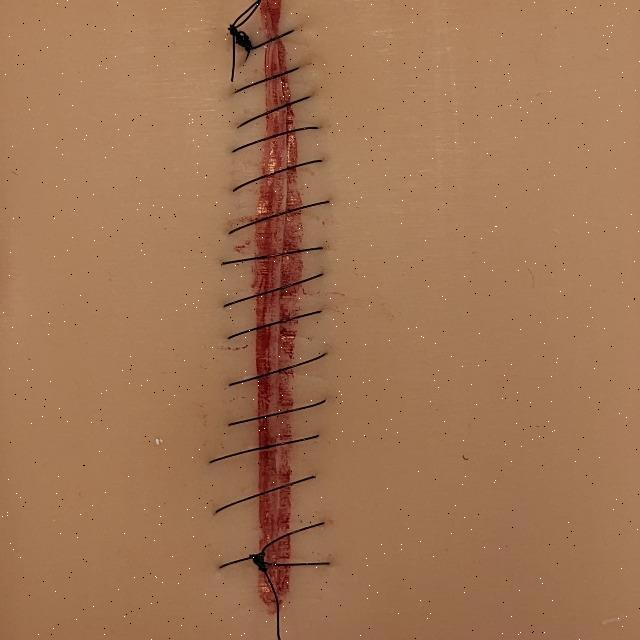suture_good: (220, 266, 336, 314), (225, 390, 335, 435), (225, 195, 338, 238), (231, 153, 333, 199), (224, 303, 330, 346), (229, 118, 329, 160), (232, 88, 319, 135), (219, 238, 331, 272), (235, 23, 304, 69), (232, 60, 307, 102)
suture_loose: (209, 467, 325, 523), (206, 428, 331, 471), (227, 345, 343, 390)
suture_tight: (215, 551, 340, 576)
